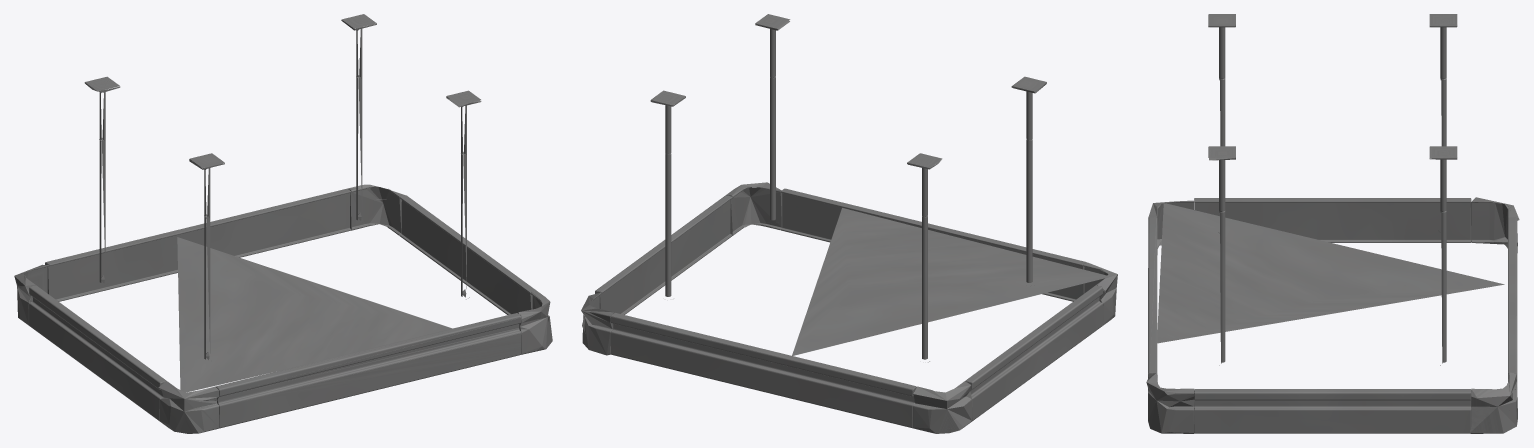
The model's file is lamp_ceiling_50cm_square_a02.glb.
3 renders of one model, left to right at view 1: azimuth 30°, elevation 25°; view 2: azimuth 150°, elevation 25°; view 3: azimuth 270°, elevation 25°, orthographic. The views are drawn at different scales.
Visible parts, largest first — view 1: geometry_0; view 2: geometry_0; view 3: geometry_0.
Boxes of the visible parts, x1=… form: geometry_0: x1=14, y1=14, x2=552, y2=433; geometry_0: x1=581, y1=14, x2=1117, y2=433; geometry_0: x1=1146, y1=14, x2=1519, y2=433.
Size of the model in its own units: 0.42 by 0.2501 by 0.3354.
1 material, 1 textured.
